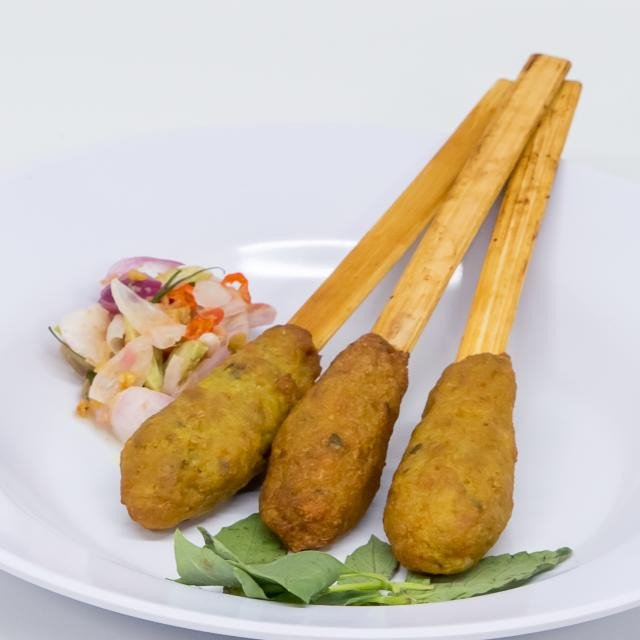Sate-Lilit: (34, 152, 617, 594)
